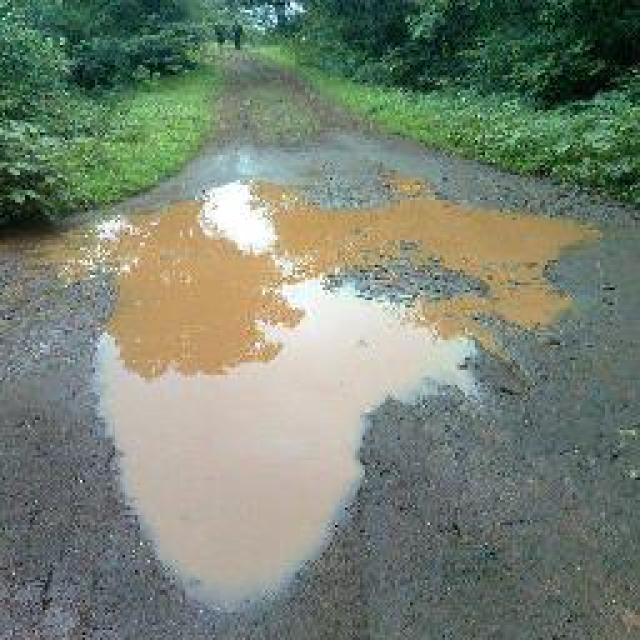waterlogging: (116, 212, 370, 622), (381, 153, 485, 399)
